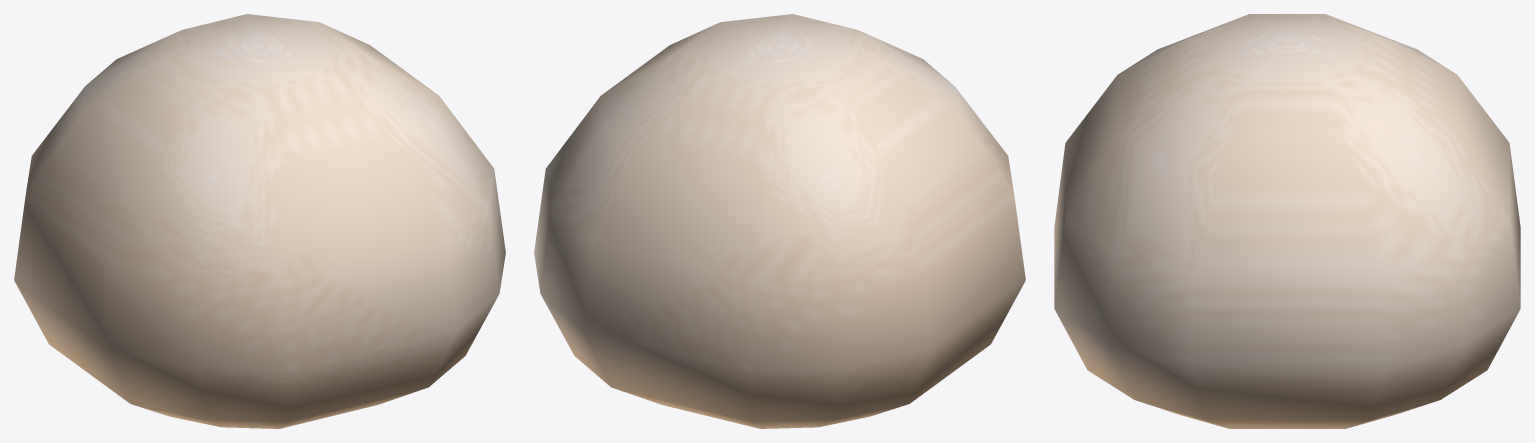
Rendered from food_ingredient_dough.gltf.
3 renders of one model, left to right at view 1: azimuth 30°, elevation 25°; view 2: azimuth 150°, elevation 25°; view 3: azimuth 270°, elevation 25°, orthographic.
Visible parts, largest first — view 1: food_ingredient_dough; view 2: food_ingredient_dough; view 3: food_ingredient_dough.
Boxes of the visible parts, <box> form: food_ingredient_dough: <box>14,14,505,428</box>; food_ingredient_dough: <box>534,14,1025,428</box>; food_ingredient_dough: <box>1054,14,1520,428</box>.
Bounding box in the file's own units: 0.7391 × 0.589 × 0.7391.
Materials: 1 (1 with a texture image).
